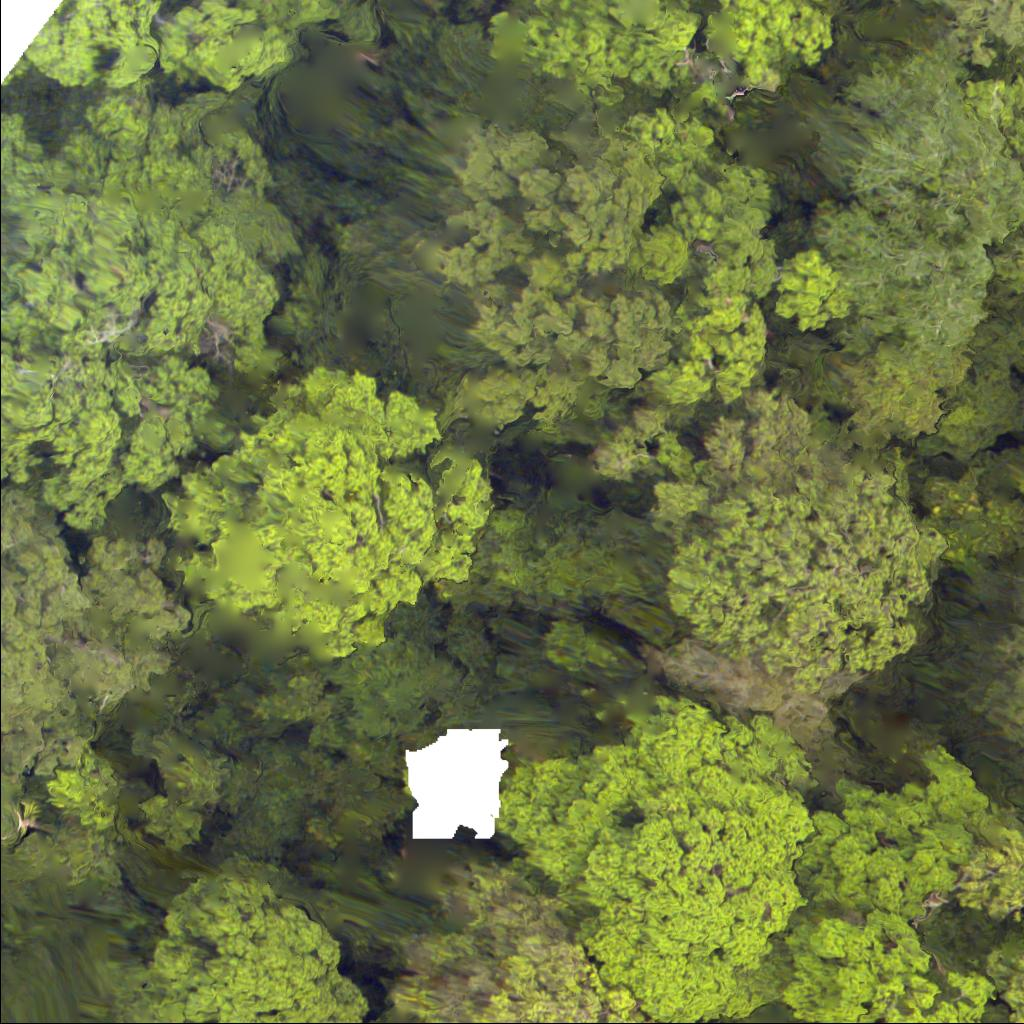crown: (360, 90, 777, 484), (0, 155, 332, 523), (488, 703, 859, 1023), (796, 49, 1023, 451), (961, 818, 1023, 902), (979, 926, 1023, 1023)
